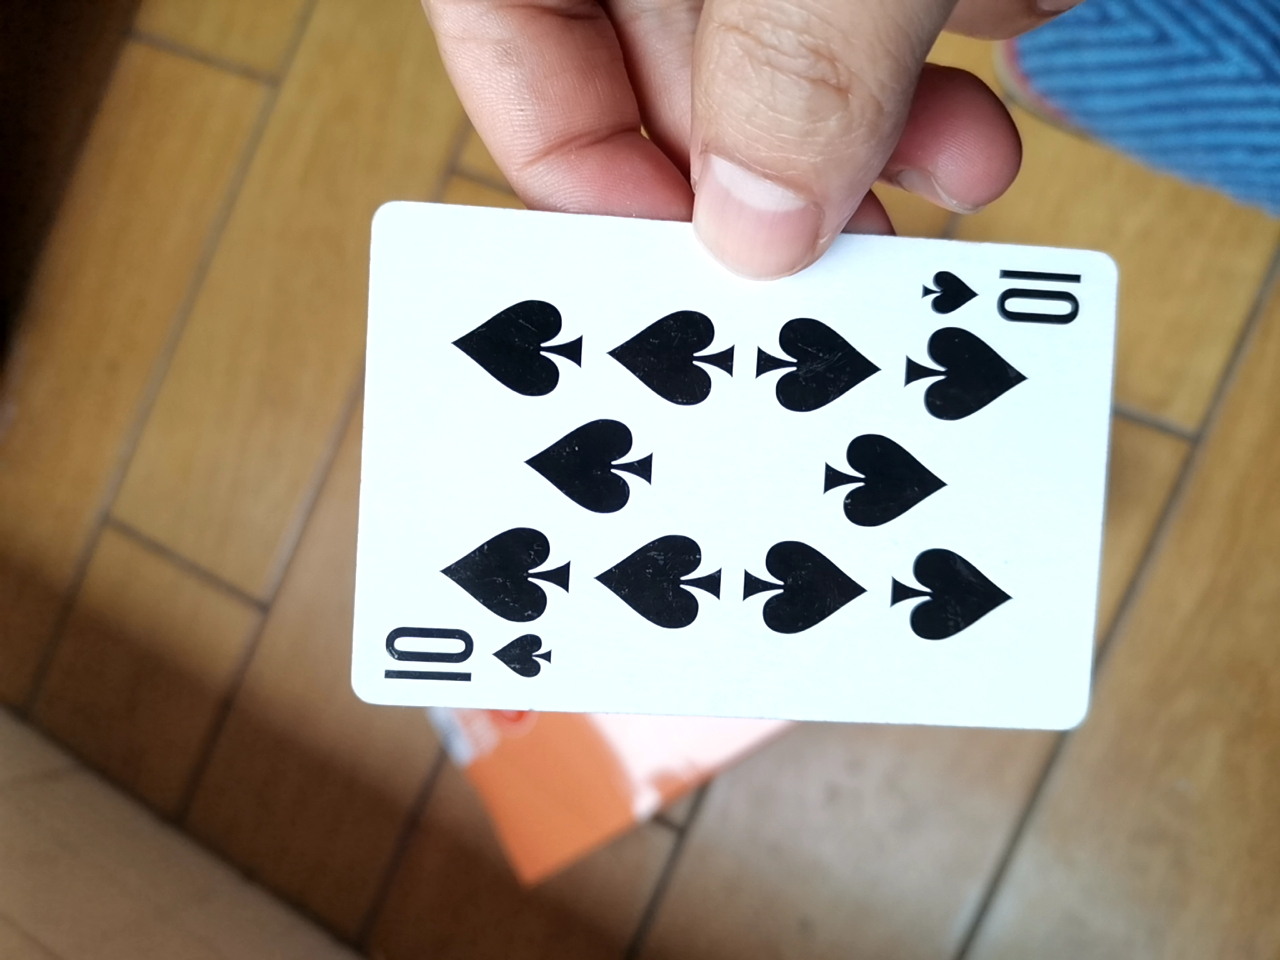ht 10: (327, 192, 1126, 766)
